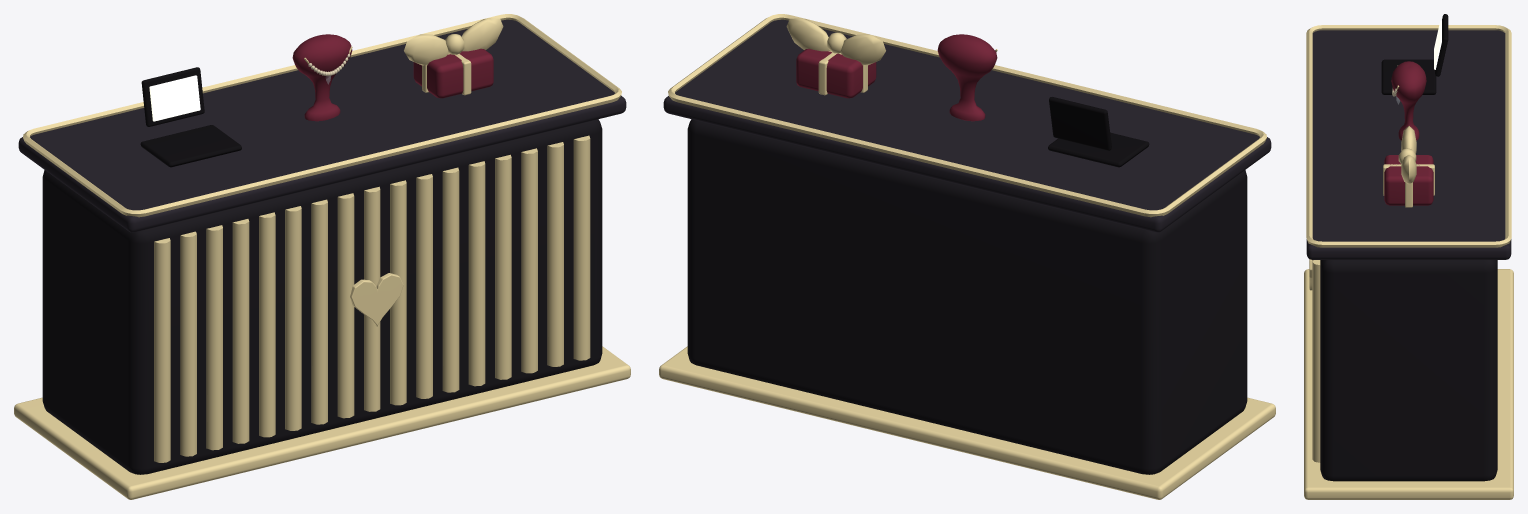
The model's file is counter_checkout_black.glb.
3 renders of one model, left to right at view 1: azimuth 30°, elevation 25°; view 2: azimuth 150°, elevation 25°; view 3: azimuth 270°, elevation 25°, orthographic. The views are drawn at different scales.
Visible parts, largest first — view 1: counter_checkout_black; view 2: counter_checkout_black; view 3: counter_checkout_black.
Boxes of the visible parts, x1=… form: counter_checkout_black: x1=14, y1=14, x2=630, y2=499; counter_checkout_black: x1=659, y1=14, x2=1275, y2=499; counter_checkout_black: x1=1304, y1=14, x2=1513, y2=499.
Size of the model in its own units: 1.92 by 1.31 by 0.77.
